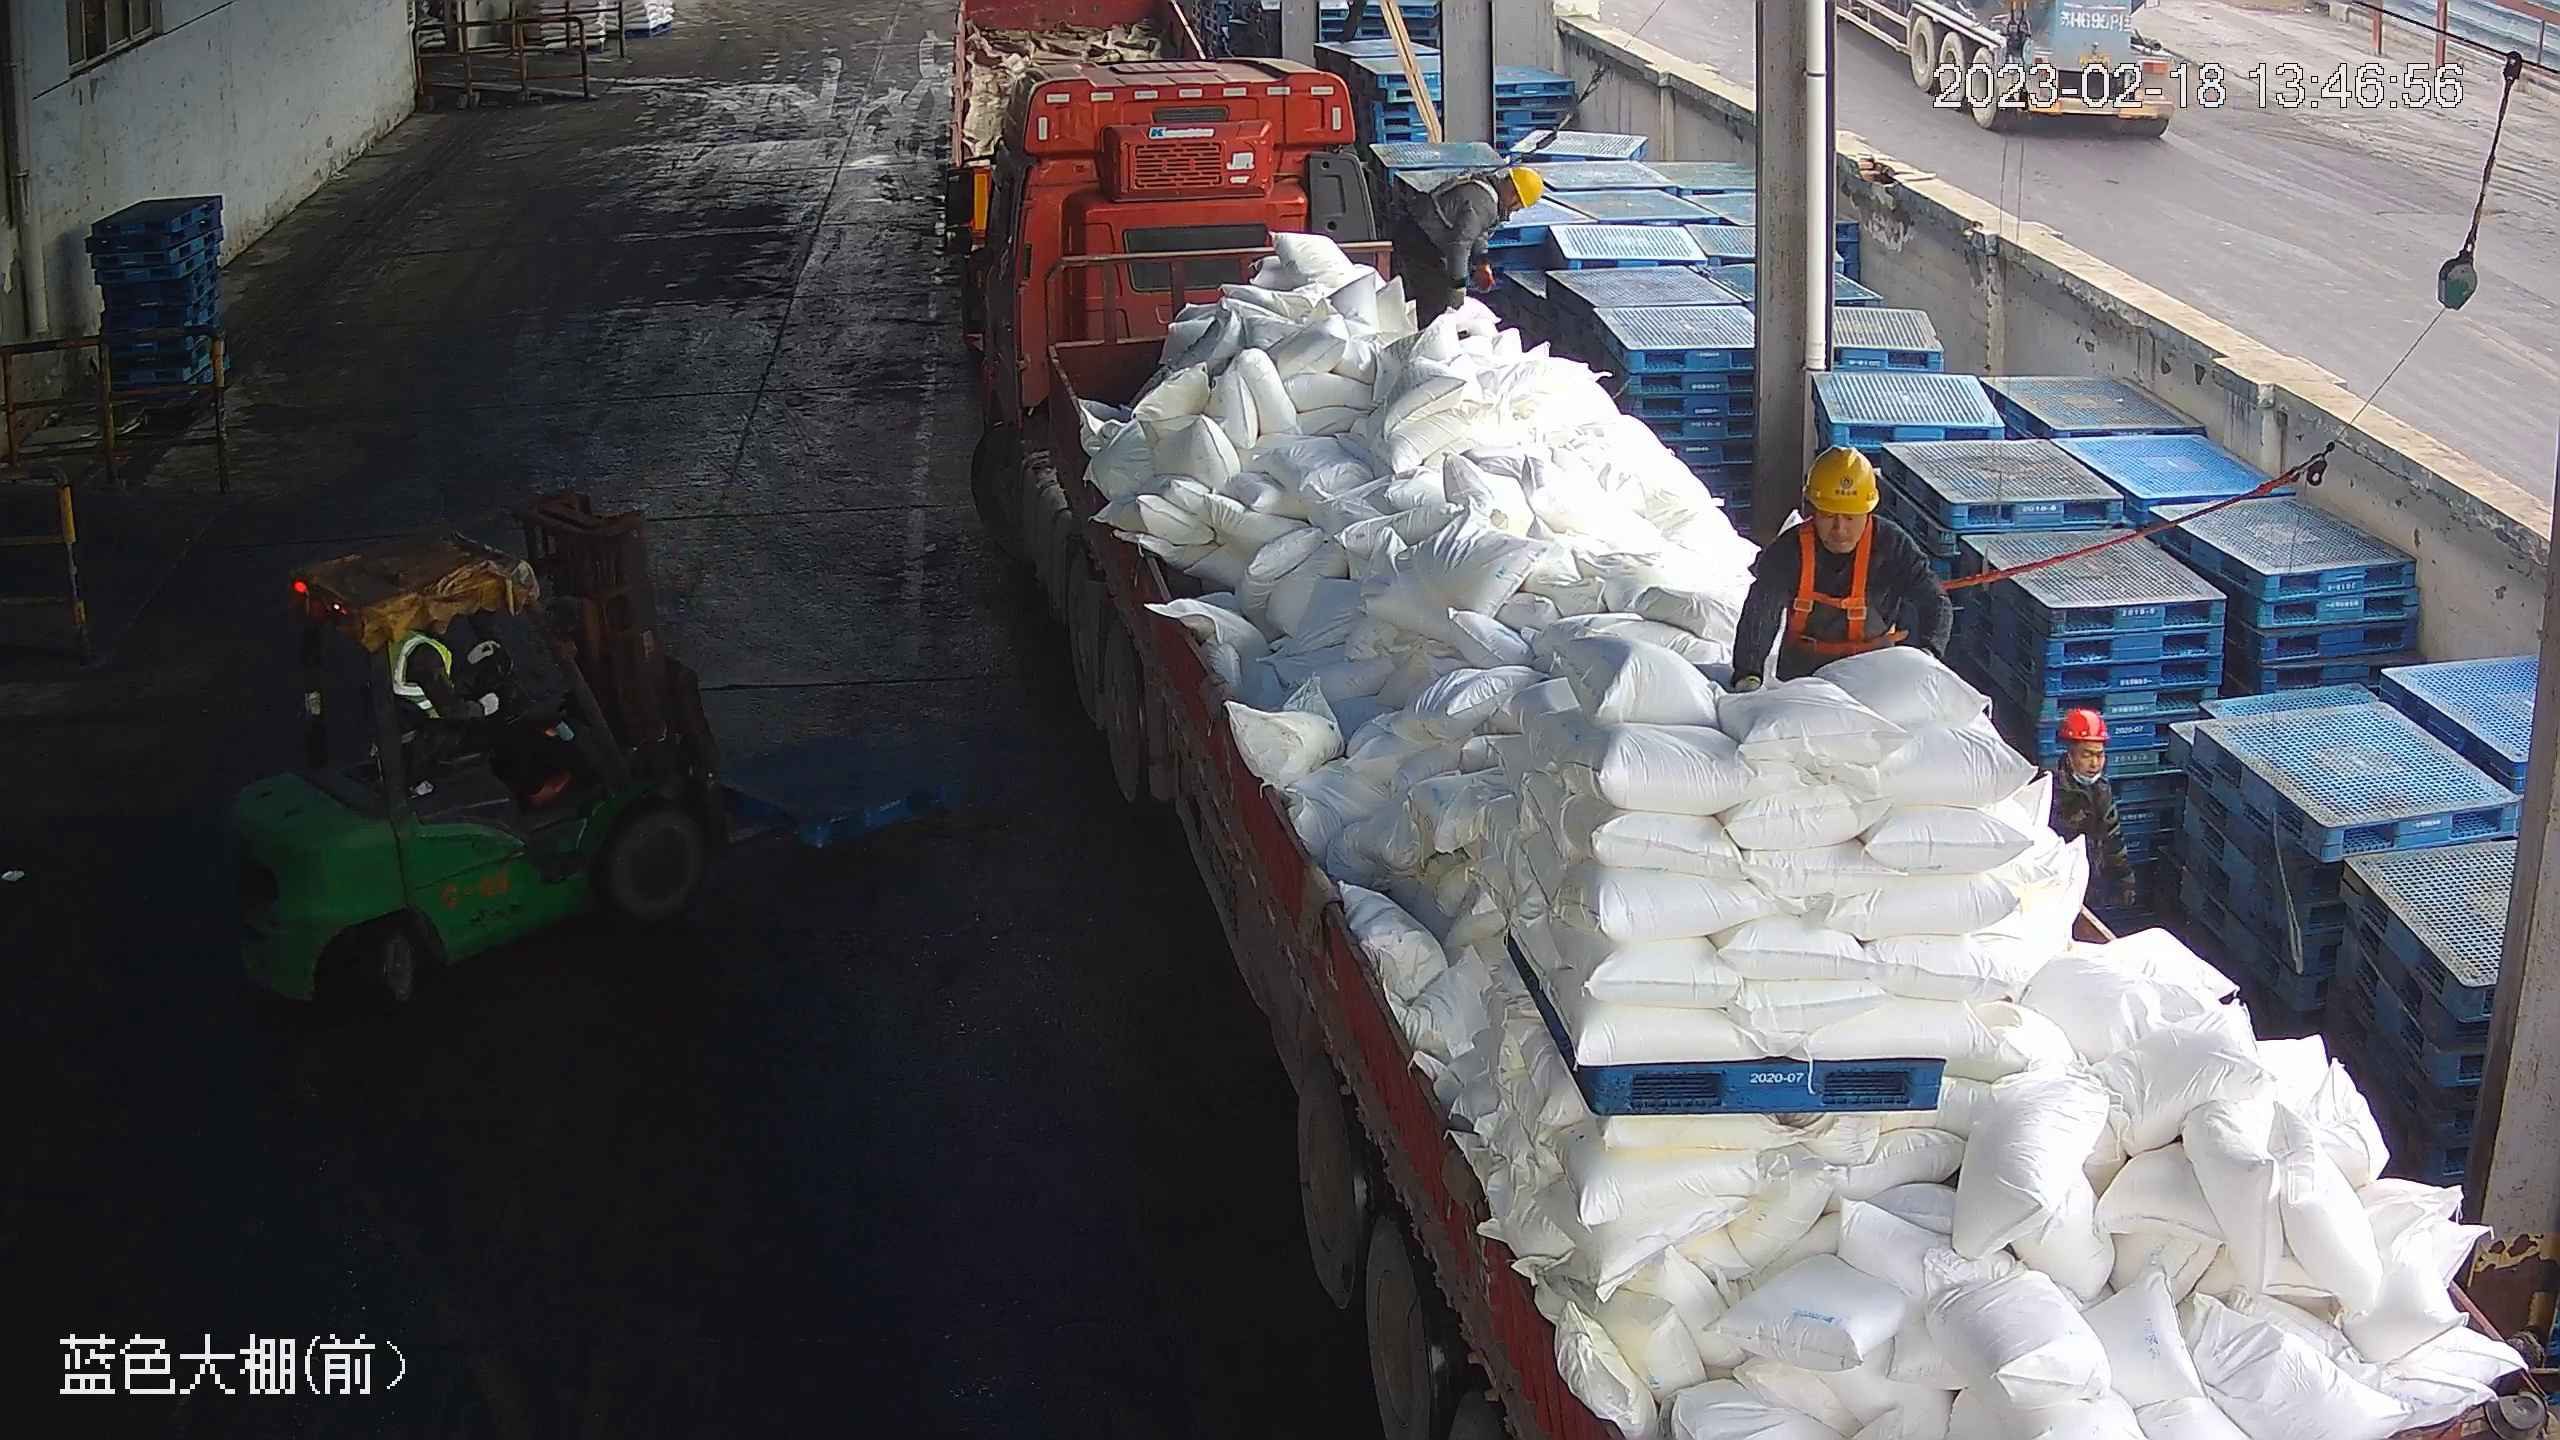belt: (1776, 516, 1928, 658), (2057, 774, 2113, 837), (1436, 165, 1494, 220)
head: (1753, 441, 1931, 607), (1450, 163, 1546, 236)
helmet: (1798, 442, 1884, 519), (2057, 704, 2112, 747), (1508, 164, 1547, 213)
people: (387, 606, 571, 801), (1383, 162, 1549, 331)
truck: (946, 53, 2554, 1437)
